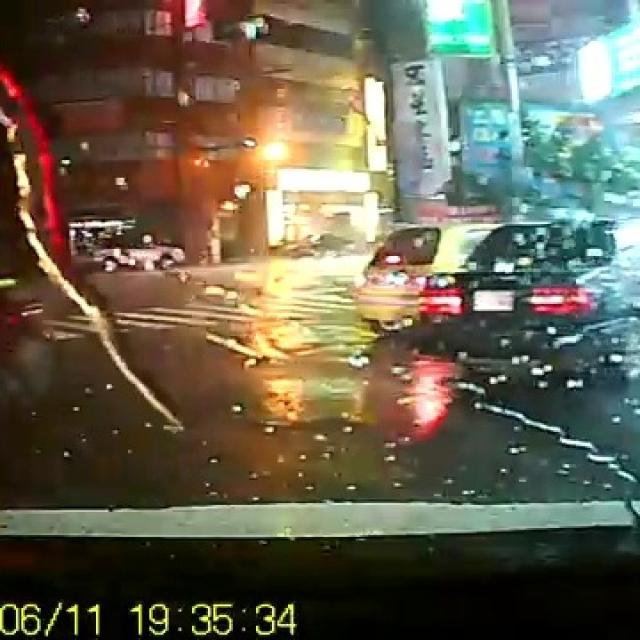Car: (410, 224, 638, 370), (355, 223, 524, 332), (92, 229, 184, 268)
